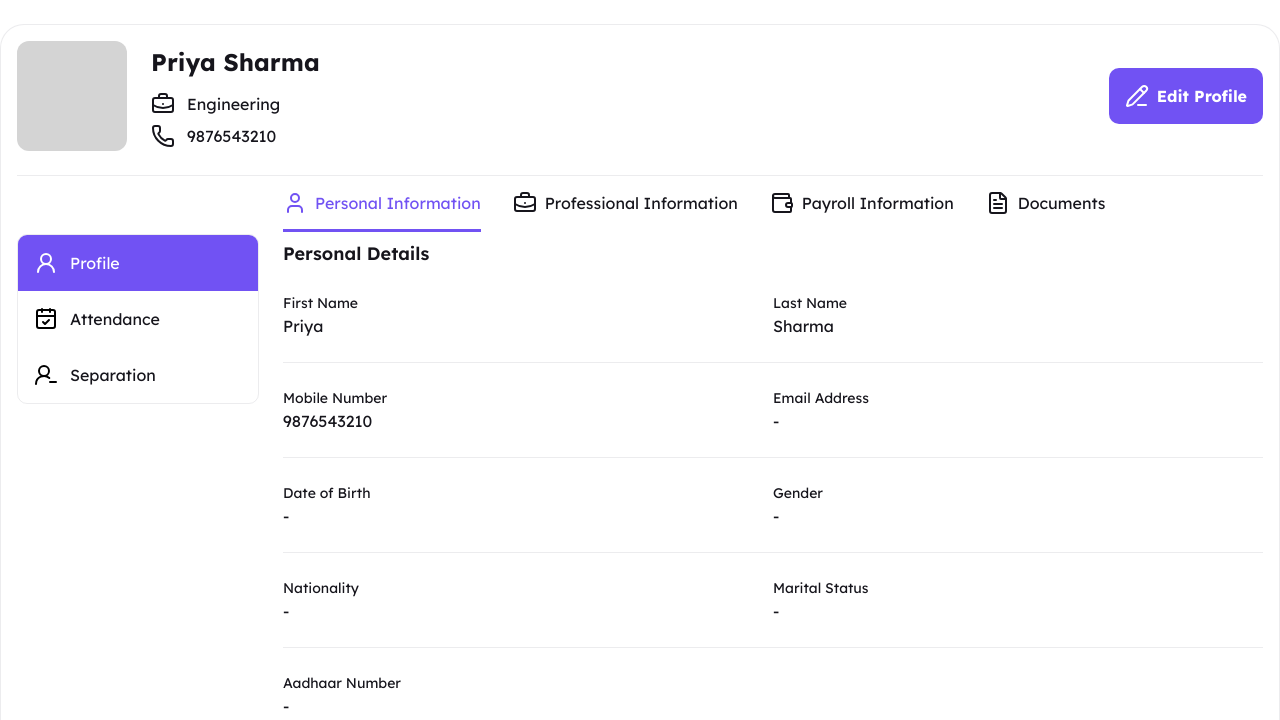
Test: EmployeeDetails — separation section › offers a retry when the read actually failed
The image size is (1280, 720).
Click the button "Separation". click: (138, 375)
box: 18,347 -> 258,403
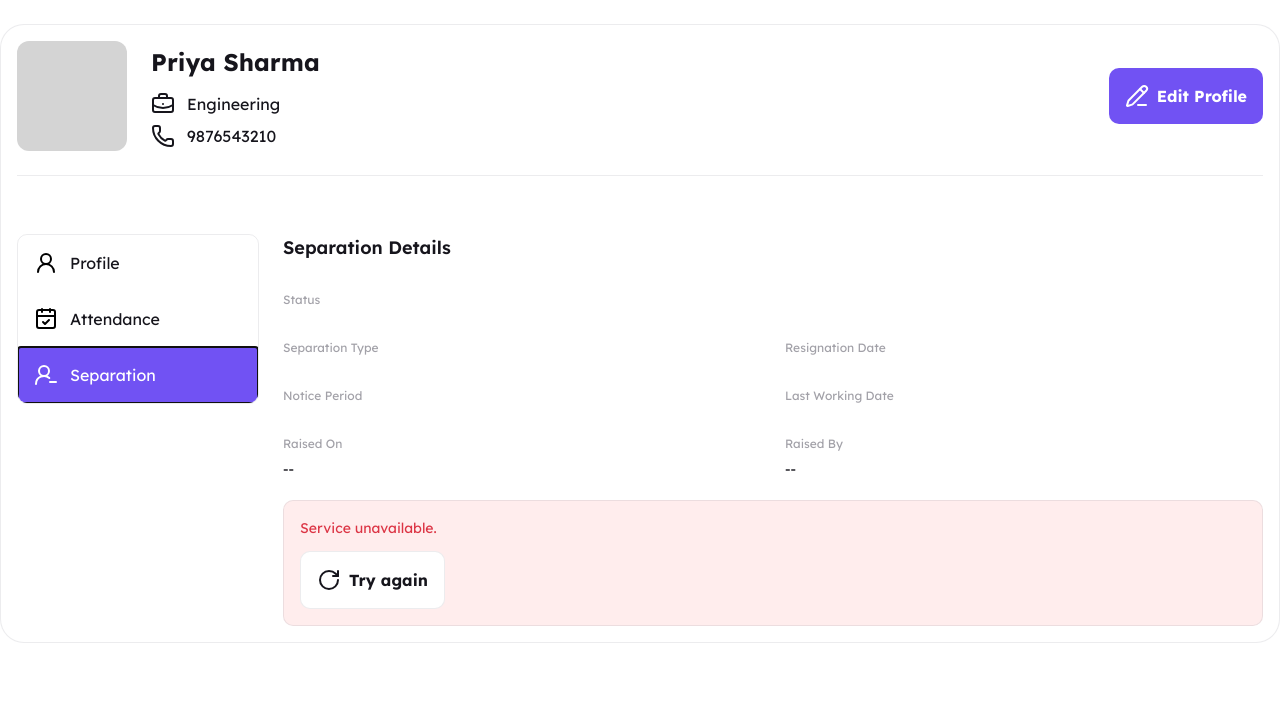
Expected: the text "Service unavailable." is shown, 300,517 -> 437,539
Click the button "Try again". click: (372, 580)
box: 300,551 -> 445,609
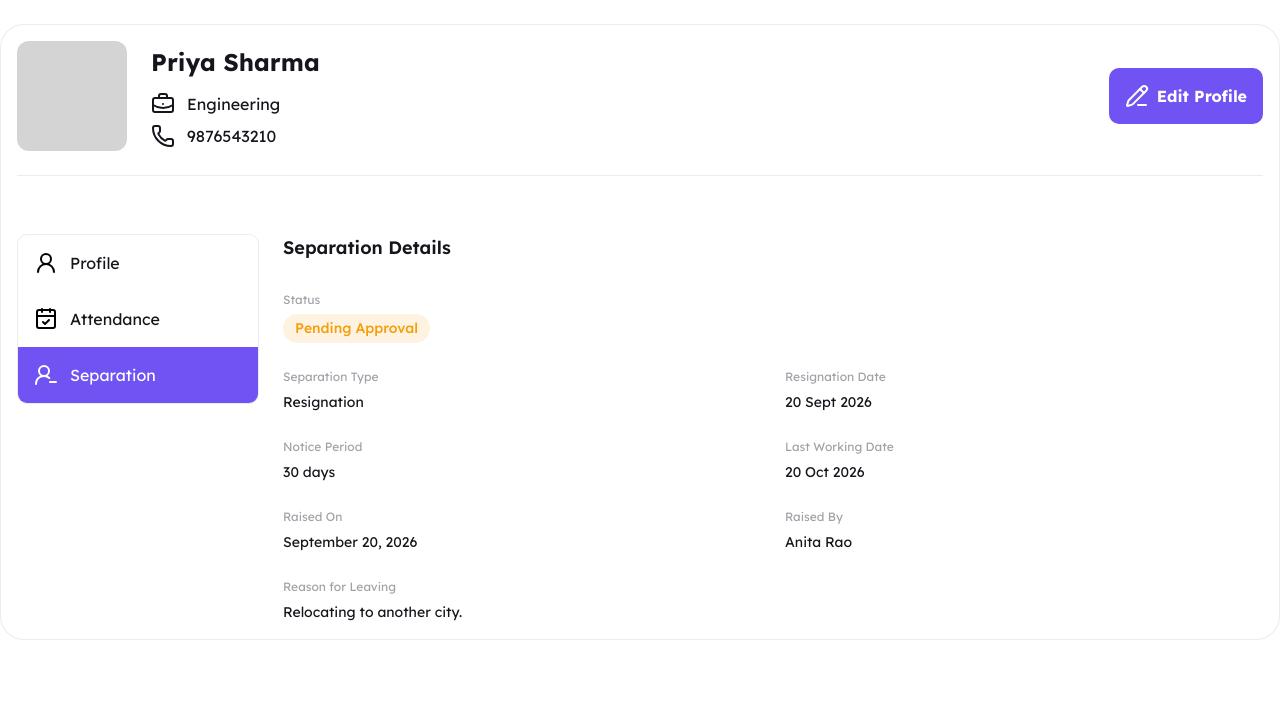
Expected: the text "Relocating to another city." is shown, 283,603 -> 462,621
